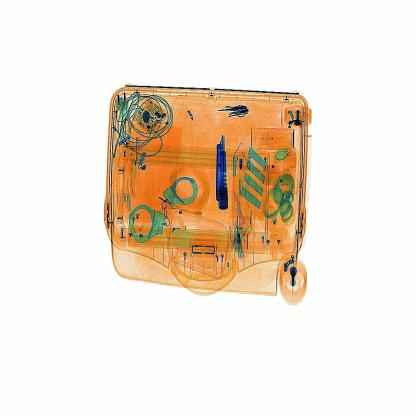pliers: (213, 134, 233, 217)
